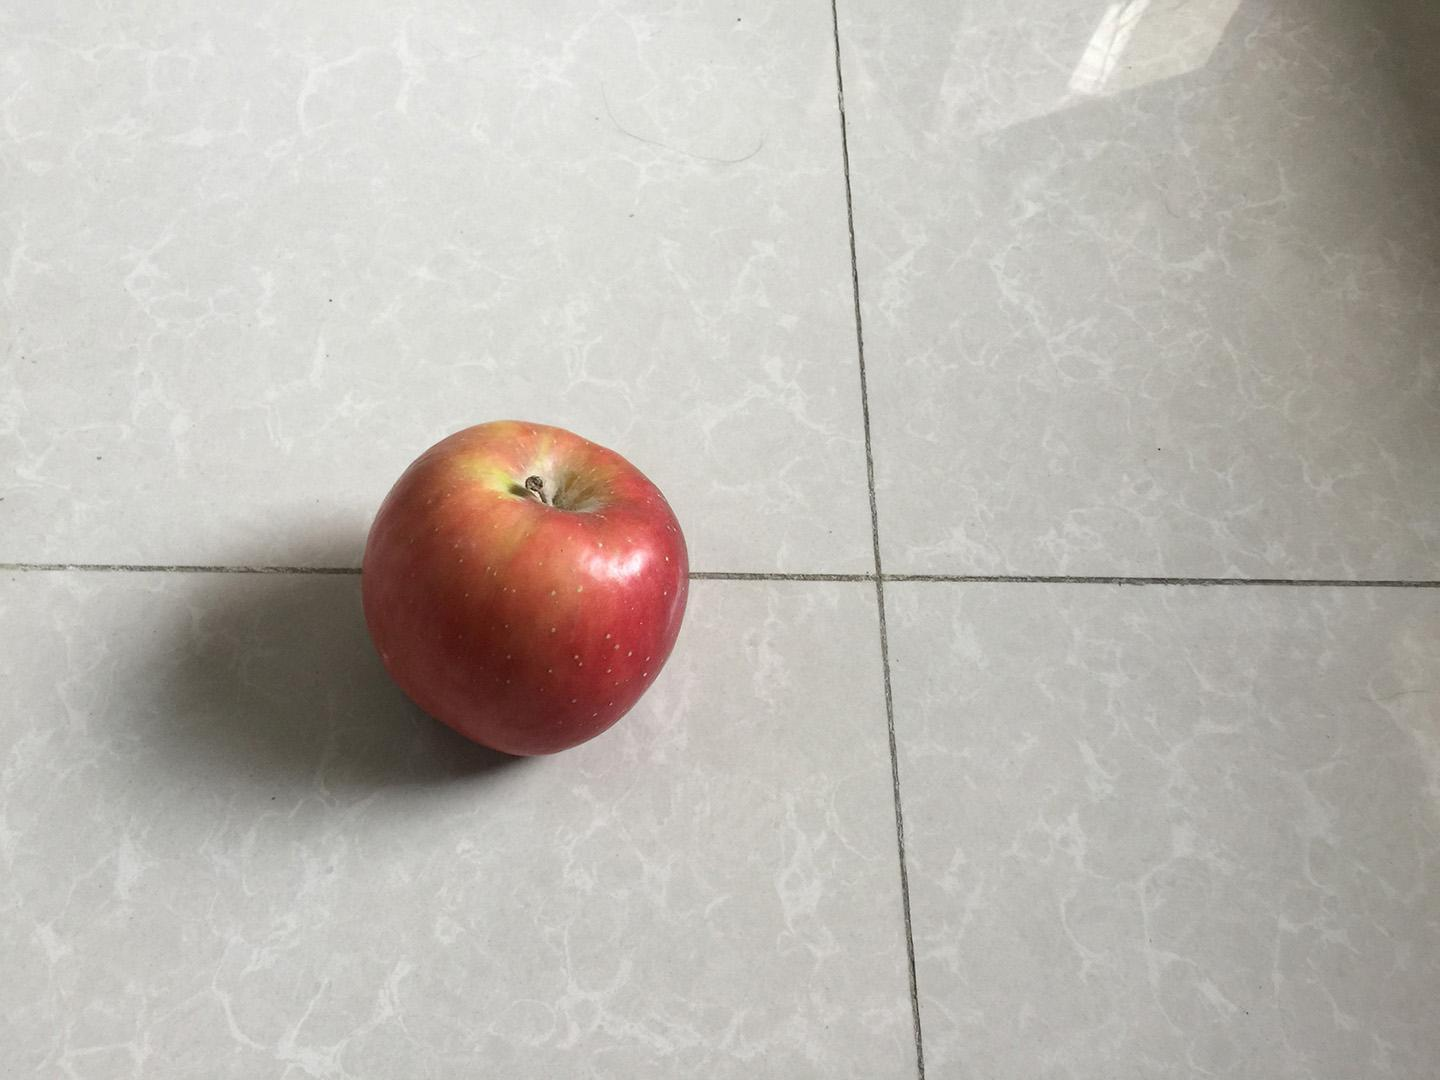apple: (351, 413, 700, 763)
